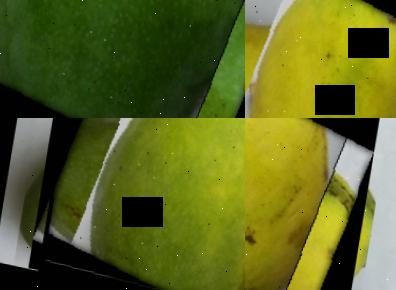PartiallyRipe: (36, 118, 245, 290)
Ripe: (245, 118, 371, 290), (245, 0, 396, 118)
Unripe: (0, 0, 245, 118)
